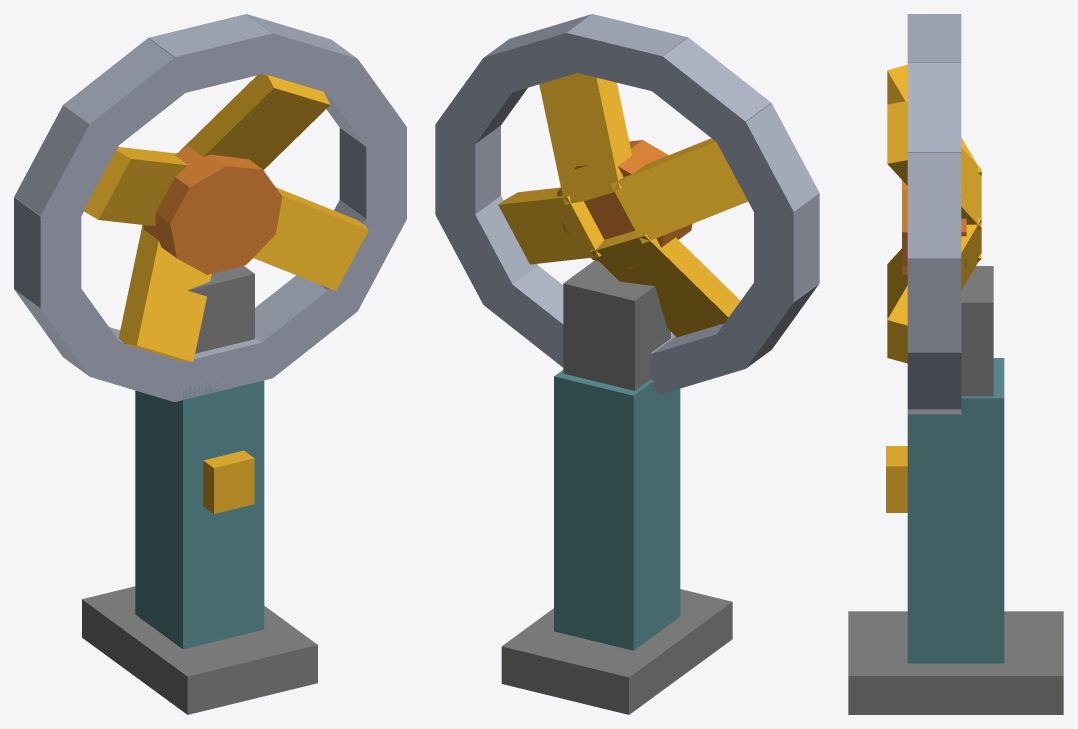
Rendered from fan_handheld.glb.
The picture shows the model from 3 angles, left to right: view 1: azimuth 30°, elevation 25°; view 2: azimuth 150°, elevation 25°; view 3: azimuth 270°, elevation 25°; orthographic projection. The views are drawn at different scales.
Visible parts, largest first — view 1: fan_handheld; view 2: fan_handheld; view 3: fan_handheld.
Part boxes in pixels (<box>): fan_handheld: <box>14,14,406,714</box>; fan_handheld: <box>435,14,819,714</box>; fan_handheld: <box>848,14,1063,714</box>.
Size of the model in its own units: 0.5 by 0.825 by 0.25.
